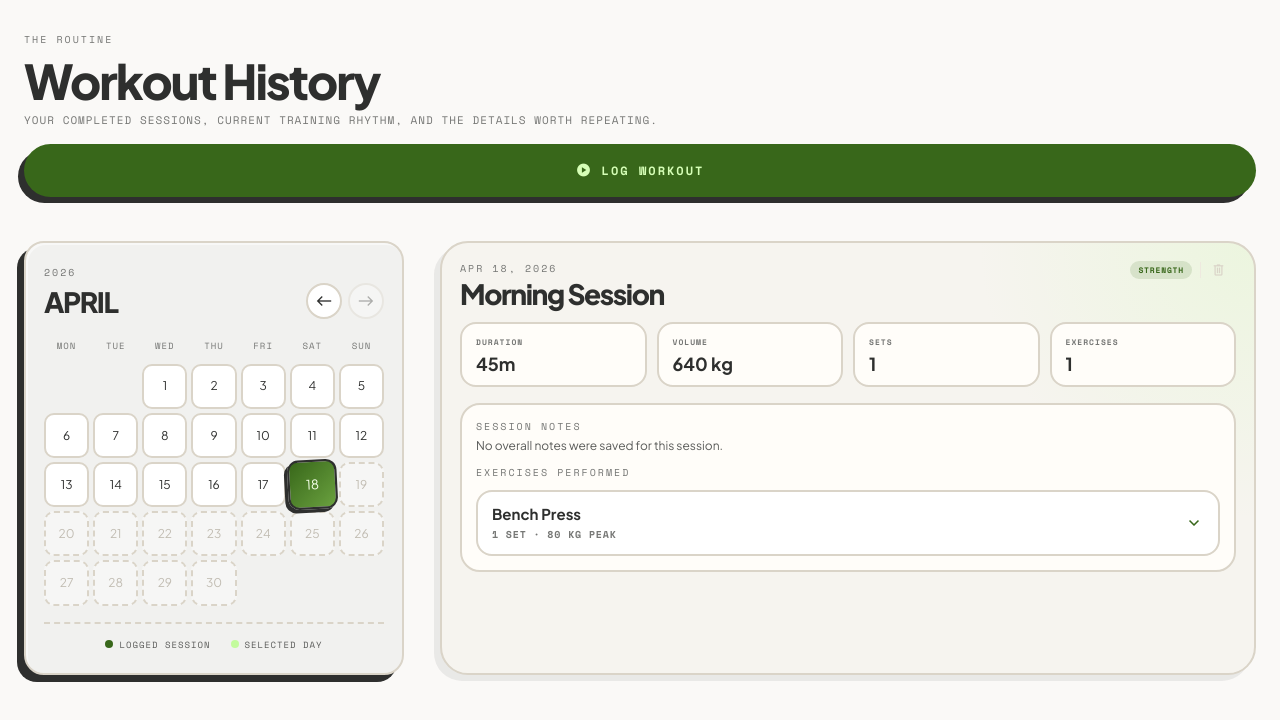
it: Workouts integration › does not refetch deleted workout details after removing a history entry
The width and height of the screenshot is (1280, 720).
Expected: the heading "Morning Session" is shown, [460, 280, 664, 308]
Click the button named "Delete workout".
click(1218, 270)  # box [1200, 262, 1236, 278]
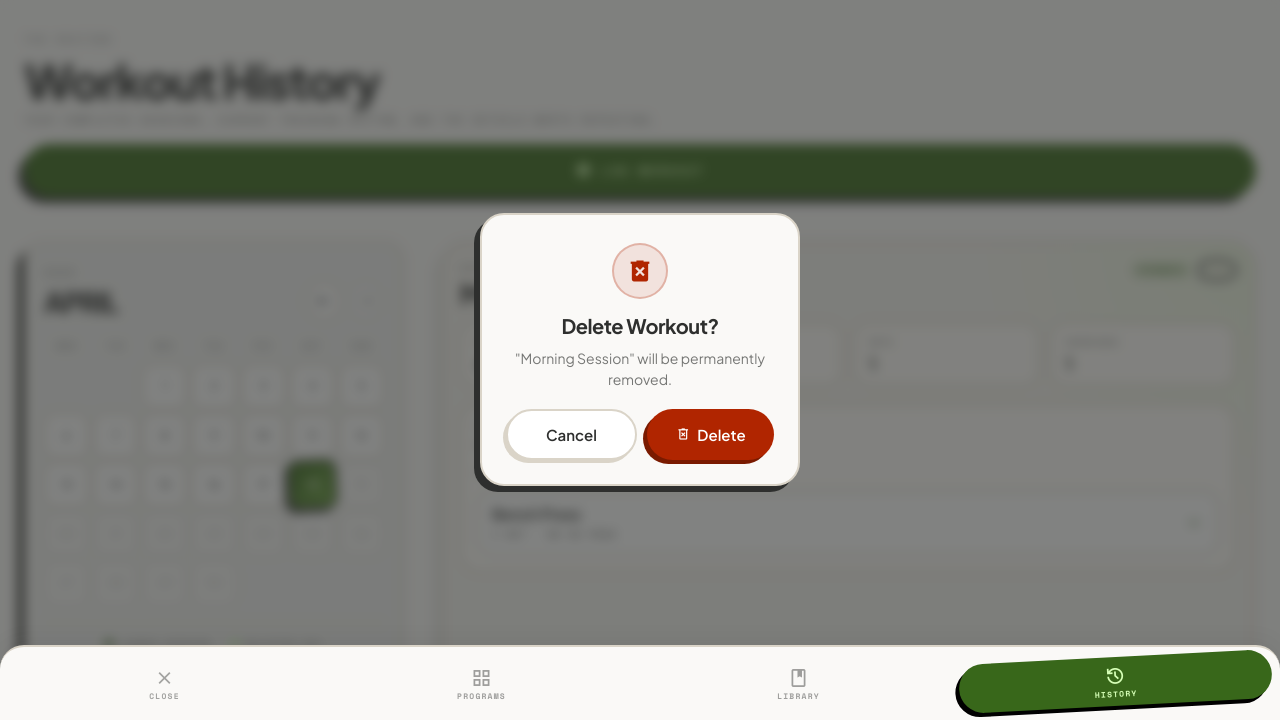
Expected: the heading "Delete Workout?" is shown, [561, 313, 719, 338]
Click the button "Delete".
click(710, 434)  # box [647, 409, 774, 460]
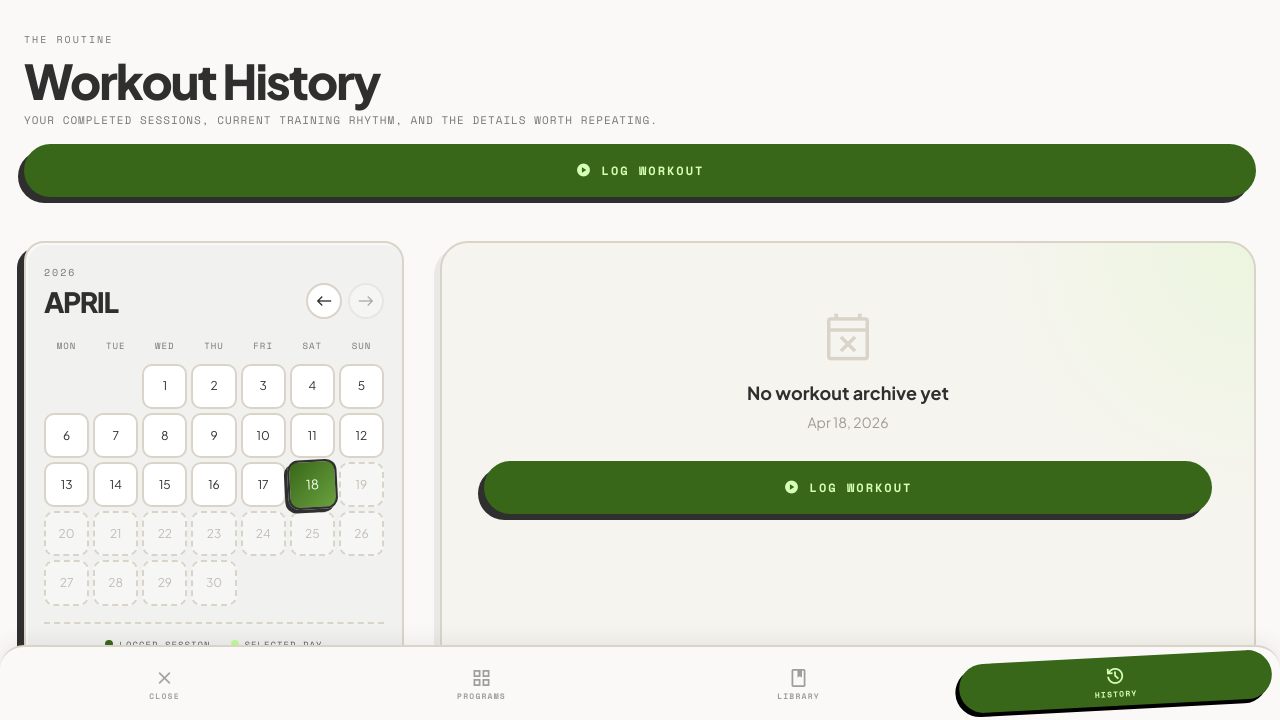
Expected: the heading "No workout archive yet" is shown, [747, 381, 949, 404]
